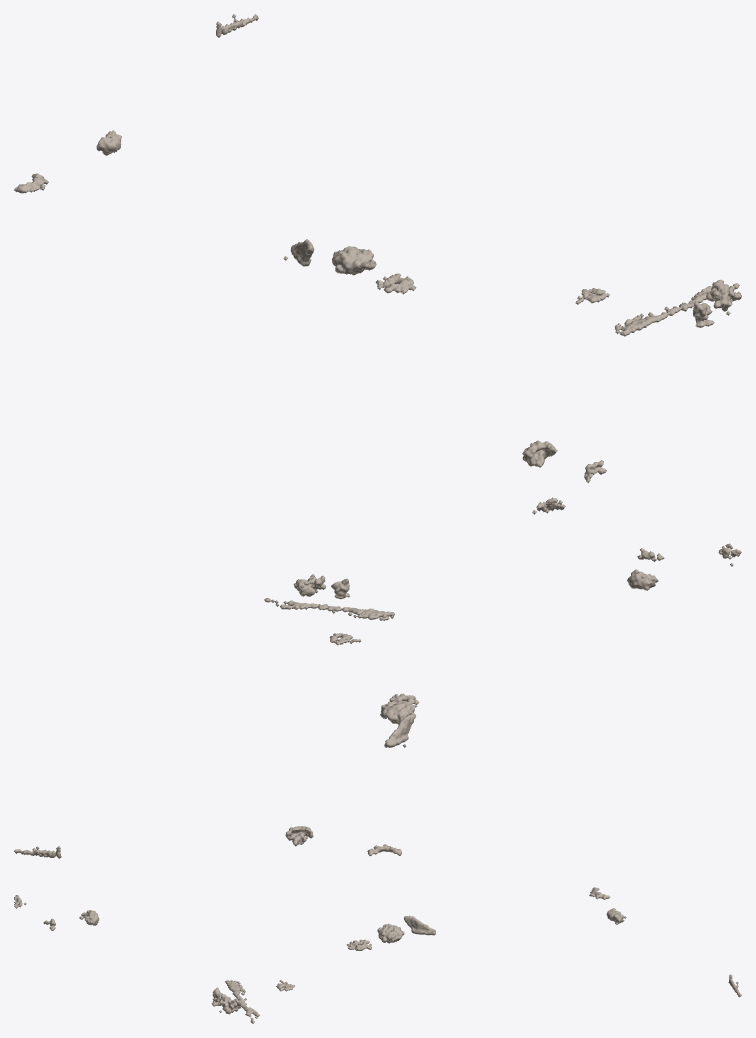
3 views of the same model, one above another, from view 1: azimuth 30°, elevation 25°; view 2: azimuth 150°, elevation 25°; view 3: azimuth 270°, elevation 25° (orthographic). The views are drawn at different scales.
Parts seen in each view (by area): view 1: Yard_objects; view 2: Yard_objects; view 3: Yard_objects.
Boxes of the visible parts, x1,y1,x2,y2 form: Yard_objects: [14, 14, 741, 514]; Yard_objects: [14, 543, 741, 858]; Yard_objects: [14, 887, 741, 1023].
Bounding box in the file's own units: 44.44 × 2.71 × 101.
